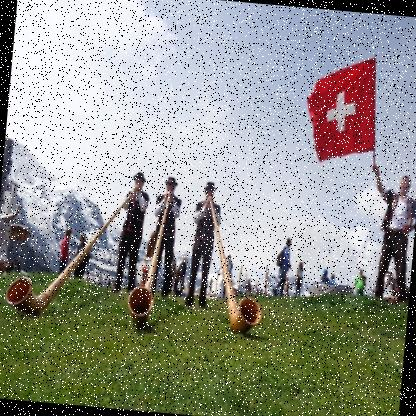ch: (302, 47, 387, 169)
